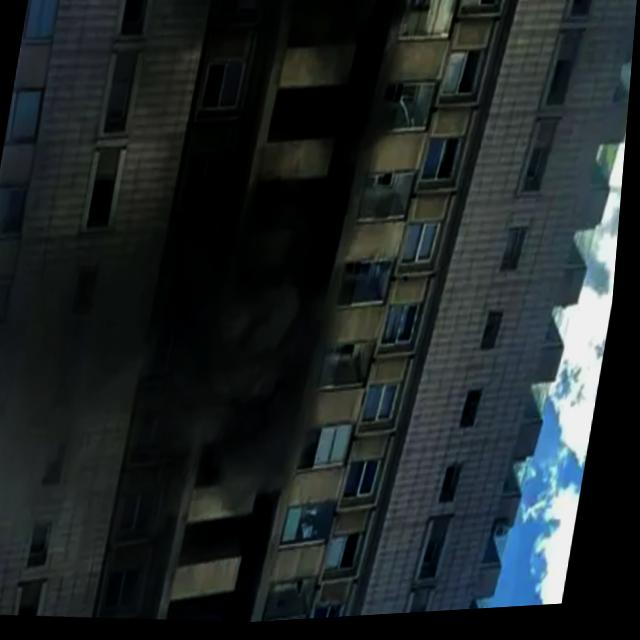no_helmet: (14, 167, 354, 544)
